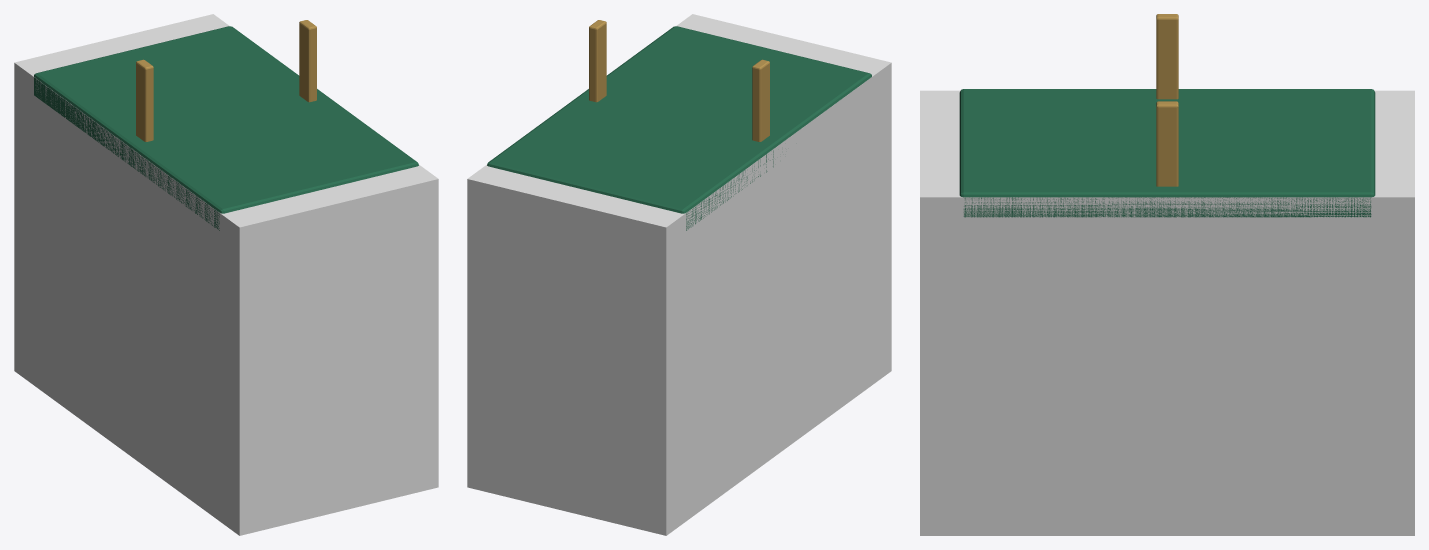
Rendered from golf-cart_boutique.glb.
The picture shows the model from 3 angles, left to right: view 1: azimuth 30°, elevation 25°; view 2: azimuth 150°, elevation 25°; view 3: azimuth 270°, elevation 25°; orthographic projection. The views are drawn at different scales.
Parts seen in each view (by area): view 1: COL_golf-cart, MESH_Canopy, MESH_RoofPost, MESH_RoofPost.001; view 2: COL_golf-cart, MESH_Canopy, MESH_RoofPost, MESH_RoofPost.001; view 3: COL_golf-cart, MESH_Canopy, MESH_RoofPost.001, MESH_RoofPost.
Part boxes in pixels (left/top/right/bottom): COL_golf-cart: left=14, top=14, right=438, bottom=535; MESH_Canopy: left=34, top=26, right=418, bottom=230; MESH_RoofPost: left=136, top=59, right=153, bottom=141; MESH_RoofPost.001: left=299, top=20, right=316, bottom=102; COL_golf-cart: left=467, top=14, right=891, bottom=535; MESH_Canopy: left=487, top=26, right=871, bottom=230; MESH_RoofPost: left=752, top=59, right=769, bottom=141; MESH_RoofPost.001: left=589, top=20, right=606, bottom=102; COL_golf-cart: left=920, top=90, right=1414, bottom=535; MESH_Canopy: left=959, top=89, right=1375, bottom=217; MESH_RoofPost.001: left=1156, top=101, right=1178, bottom=186; MESH_RoofPost: left=1156, top=14, right=1178, bottom=99.
Bounding box in the file's own units: 1.25 × 2.31 × 2.45.
